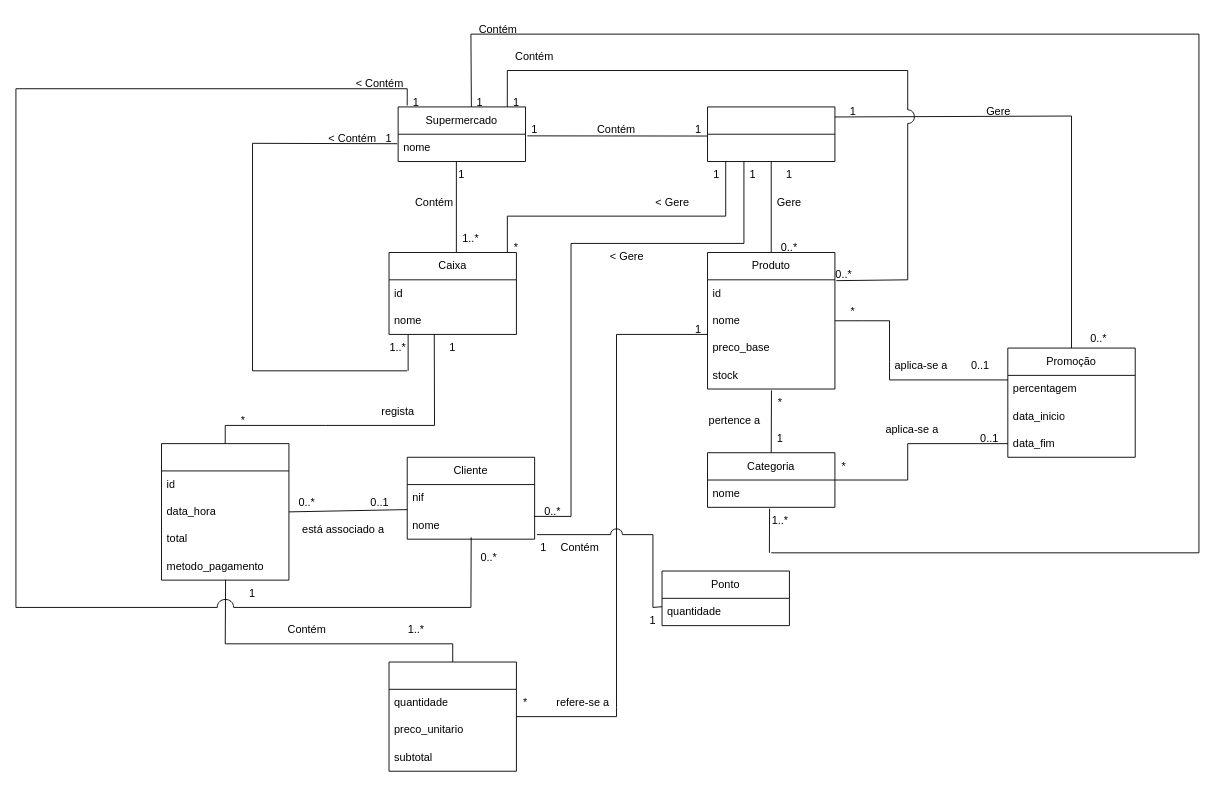
This 1216x787 diagram has some shape labels left out. Here are the shapes that lost their labels. From the top down, the box of each, then its label:
(707, 106, 835, 162): Admin
(161, 443, 289, 580): Venda
(388, 661, 516, 771): Item_Venda
